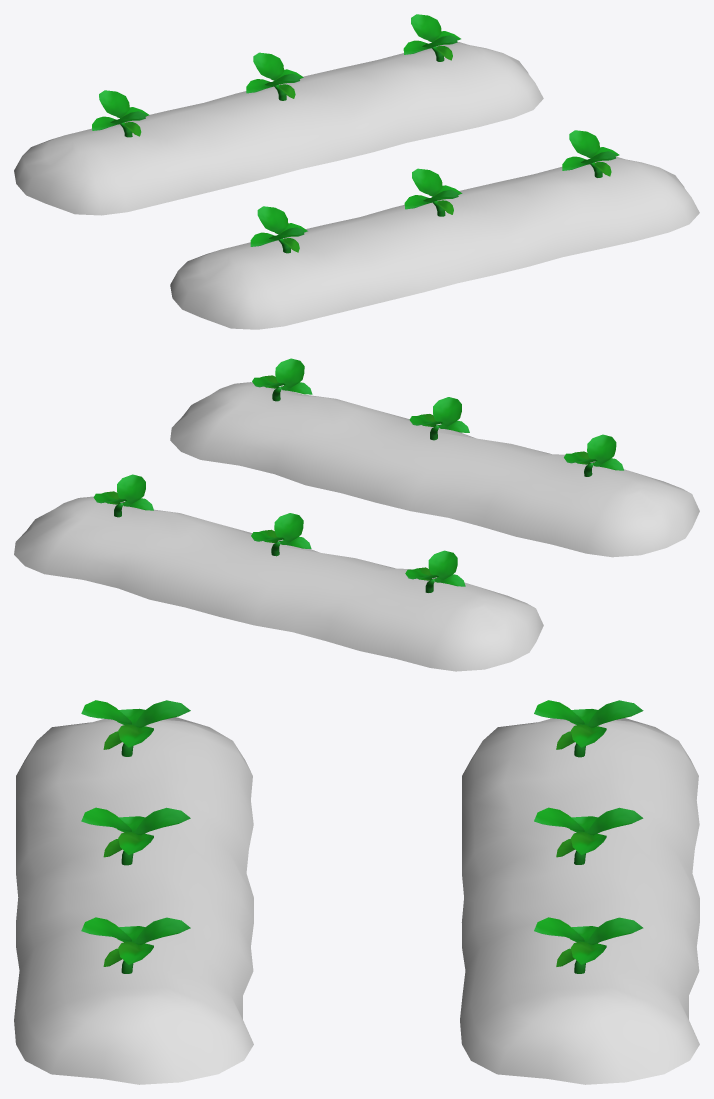
Rendered from potato2.fbx.
3 views of the same model, one above another, from view 1: azimuth 30°, elevation 25°; view 2: azimuth 150°, elevation 25°; view 3: azimuth 270°, elevation 25° (orthographic). The views are drawn at different scales.
Visible parts, largest first — view 1: Circle.001, Plane.001; view 2: Circle.001, Plane.001; view 3: Circle.001, Plane.001.
Boxes of the visible parts, x1,y1,x2,y2 form: Circle.001: (14,42,699,329); Plane.001: (92,14,619,253); Circle.001: (14,382,699,671); Plane.001: (93,358,623,592); Circle.001: (14,717,699,1084); Plane.001: (81,700,643,973).
Size of the model in its own units: 696 by 87.81 by 576.
